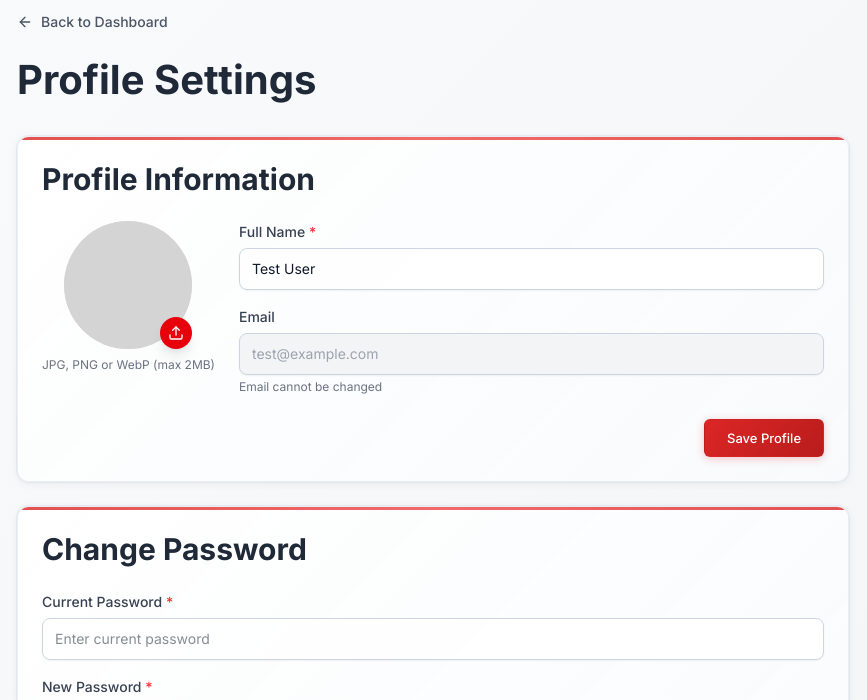
Test: ProfilePage › profile form › should show validation error for empty name
Clear the field labelled "Full Name *" at [532, 269], box x1=239 y1=248 x2=824 y2=290
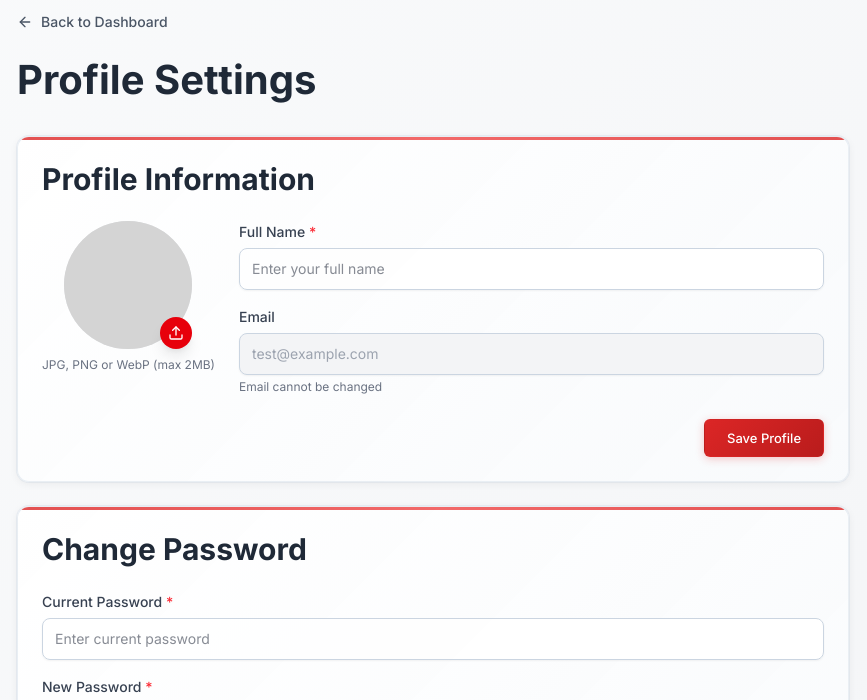
Submit the form labelled "Full Name", box x1=42 y1=221 x2=824 y2=457
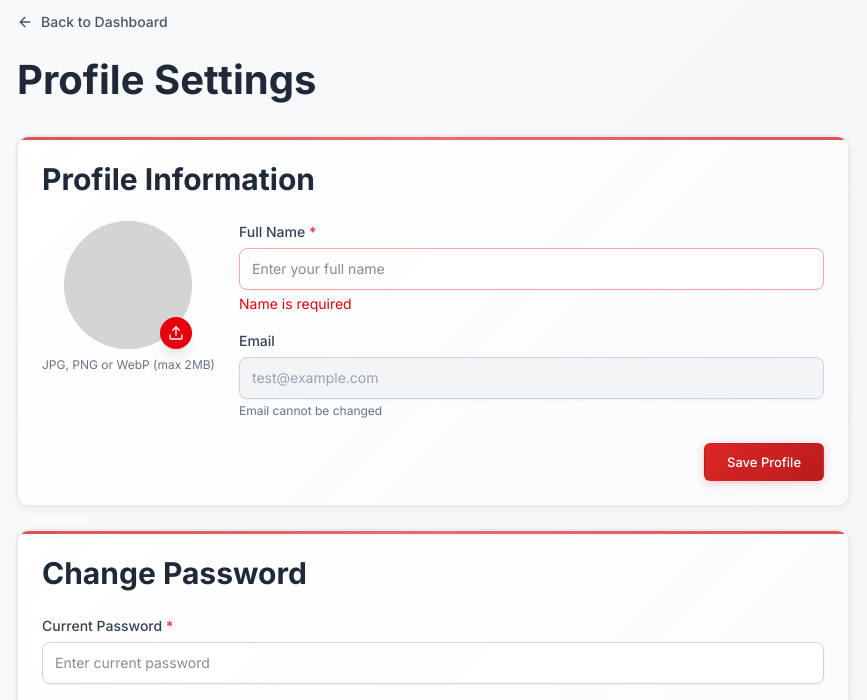
Result: the text "Name is required" is shown at x1=239 y1=295 x2=352 y2=312
